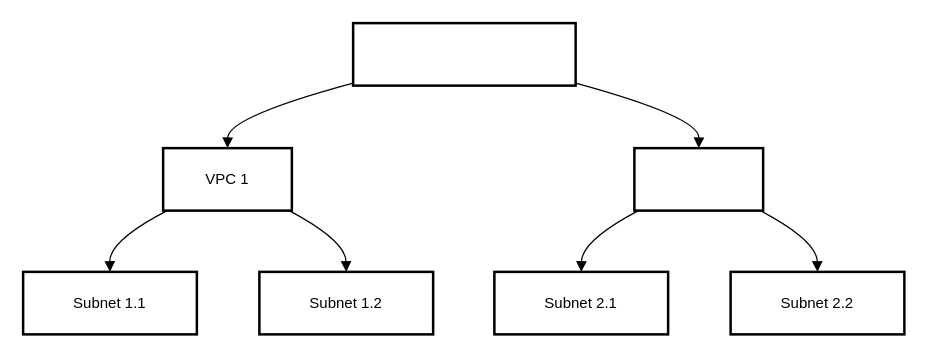
This 926x356 diagram has some shape labels left out. The shapes that lost their labels are listed below. From the top down, each one's centre as x and y in pixels, then its label:
the point at 463,53: Transit Gateway
the point at 698,178: VPC 2
